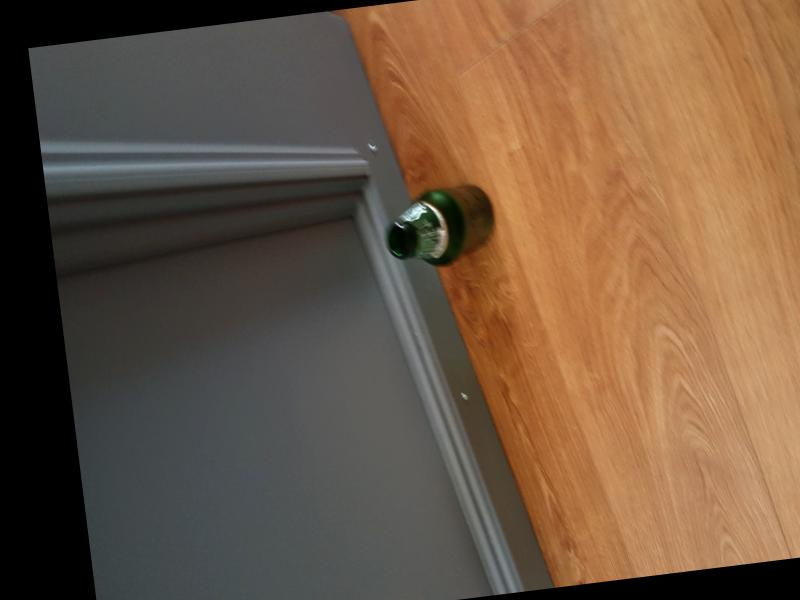Beer: (382, 183, 498, 271)
